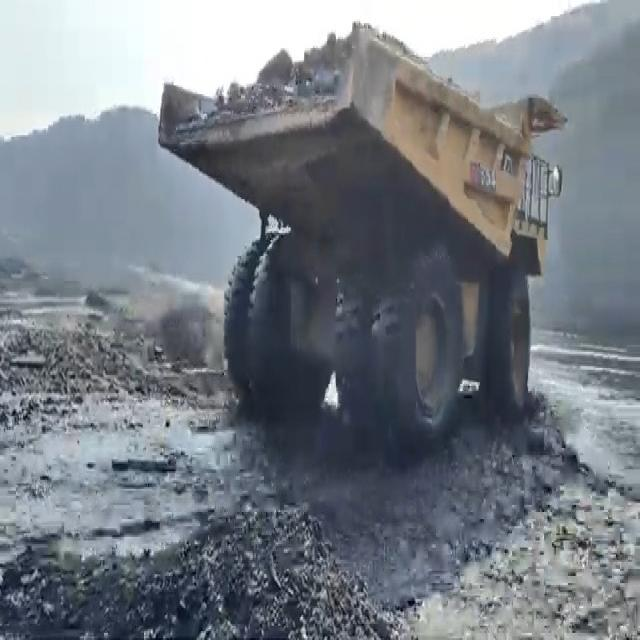dump_truck: (148, 22, 569, 432)
